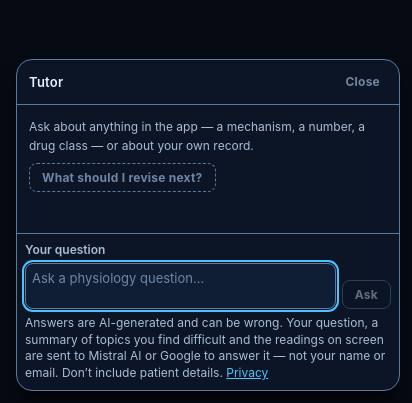
Test: ChatPanel › shows the banner alone when the corpus has nothing to offer
Type "chlorophyll photosynthesis thylakoid" into the text box labelled "Your question" at (180, 286), box [25,263,336,309]
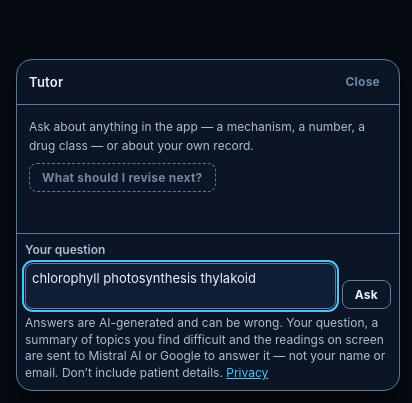
Click the button "Ask" at (366, 294), box [342,280,391,309]
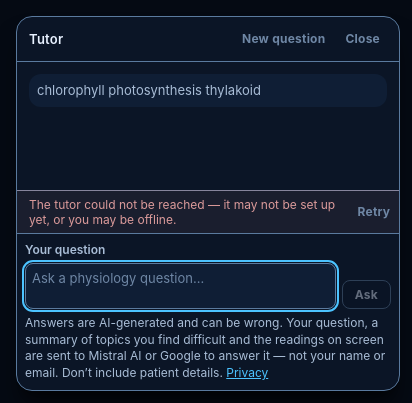
Now the message is shown, box [17,190,399,233]
